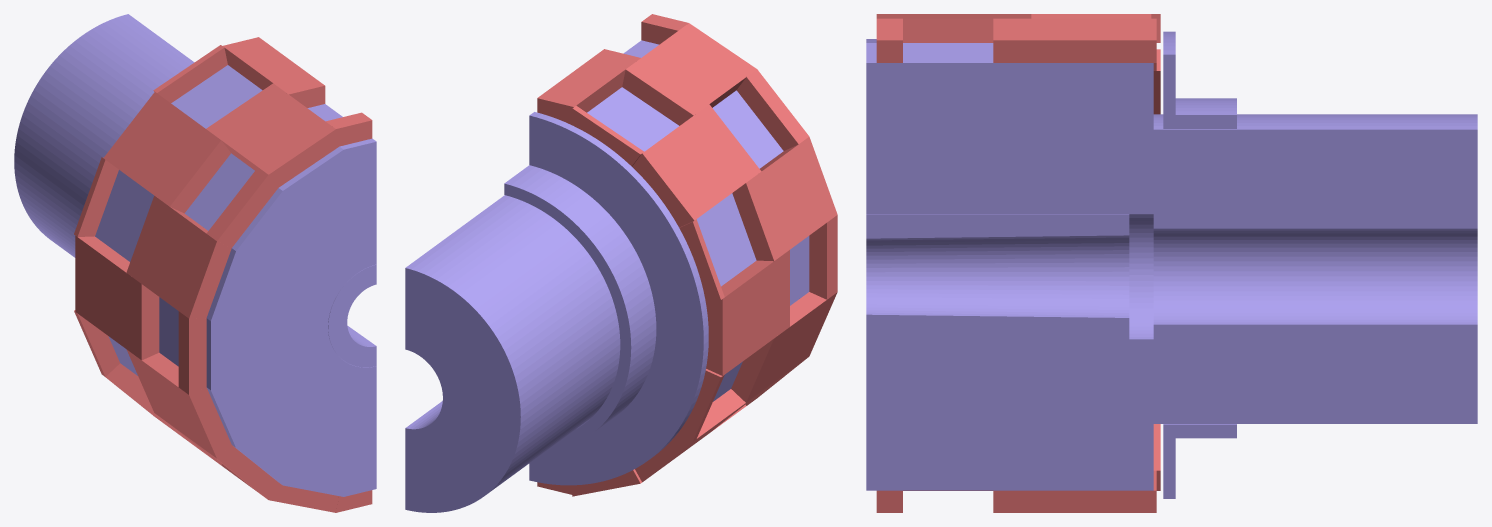
The model's file is Small-Wheel-Hub-SideC-cut2.glb.
3 views of the same model, side by side, from view 1: azimuth 30°, elevation 25°; view 2: azimuth 150°, elevation 25°; view 3: azimuth 270°, elevation 25° (orthographic). The views are drawn at different scales.
Parts seen in each view (by area): view 1: null; view 2: null; view 3: null.
Part boxes in pixels (x1=…): null: x1=14, y1=14, x2=376, y2=512; null: x1=405, y1=14, x2=837, y2=512; null: x1=866, y1=14, x2=1477, y2=512.
Bounding box in the file's own units: 0.851 × 1.7 × 2.
